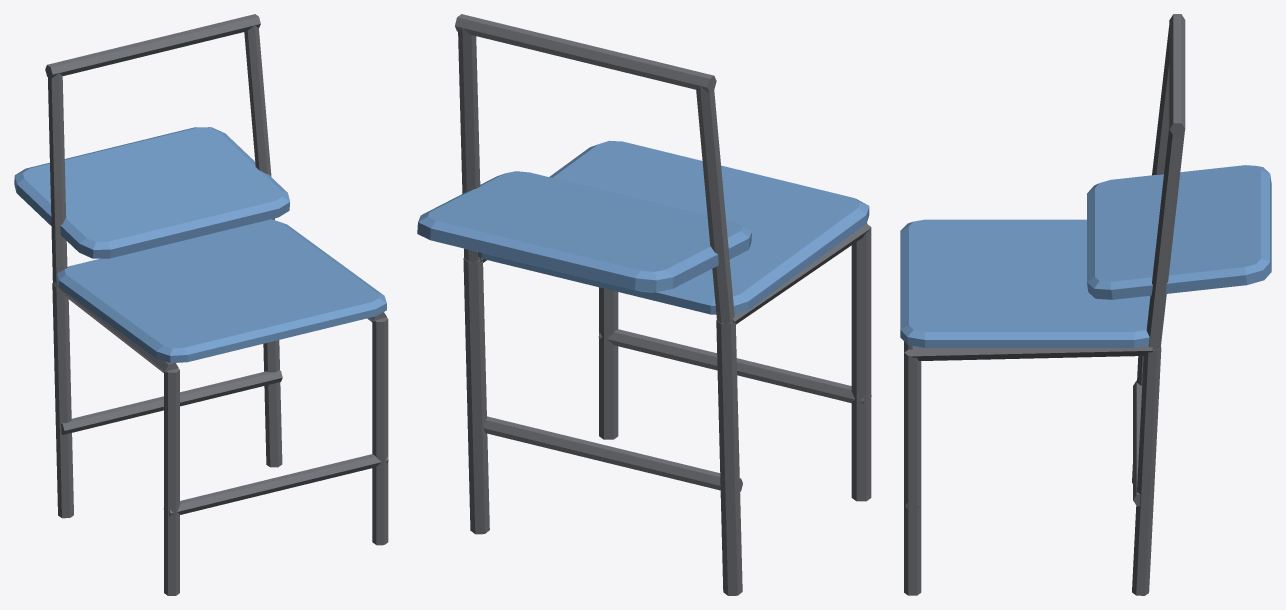
The picture shows the model from 3 angles, left to right: view 1: azimuth 30°, elevation 25°; view 2: azimuth 150°, elevation 25°; view 3: azimuth 270°, elevation 25°; orthographic projection. The views are drawn at different scales.
Parts seen in each view (by area): view 1: stacking-chair; view 2: stacking-chair; view 3: stacking-chair.
Boxes of the visible parts, bbox=[...] form: stacking-chair: bbox=[14, 14, 388, 595]; stacking-chair: bbox=[417, 14, 871, 595]; stacking-chair: bbox=[900, 14, 1271, 595].
Size of the model in its own units: 0.46 by 0.8419 by 0.603.
